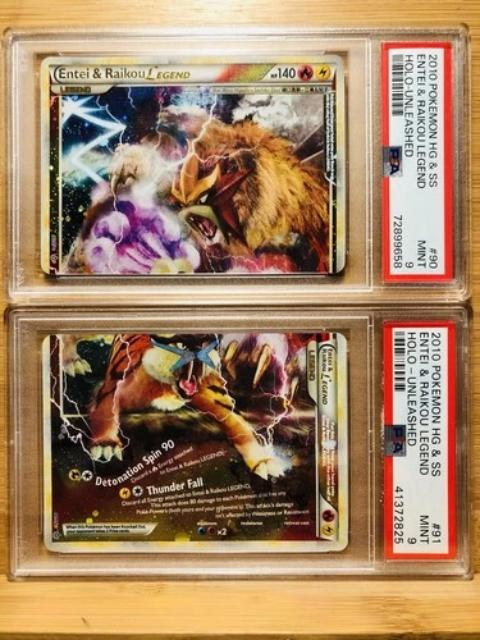Card: (36, 52, 349, 279), (38, 329, 352, 555)
Name: (55, 63, 197, 85), (318, 342, 337, 416)
